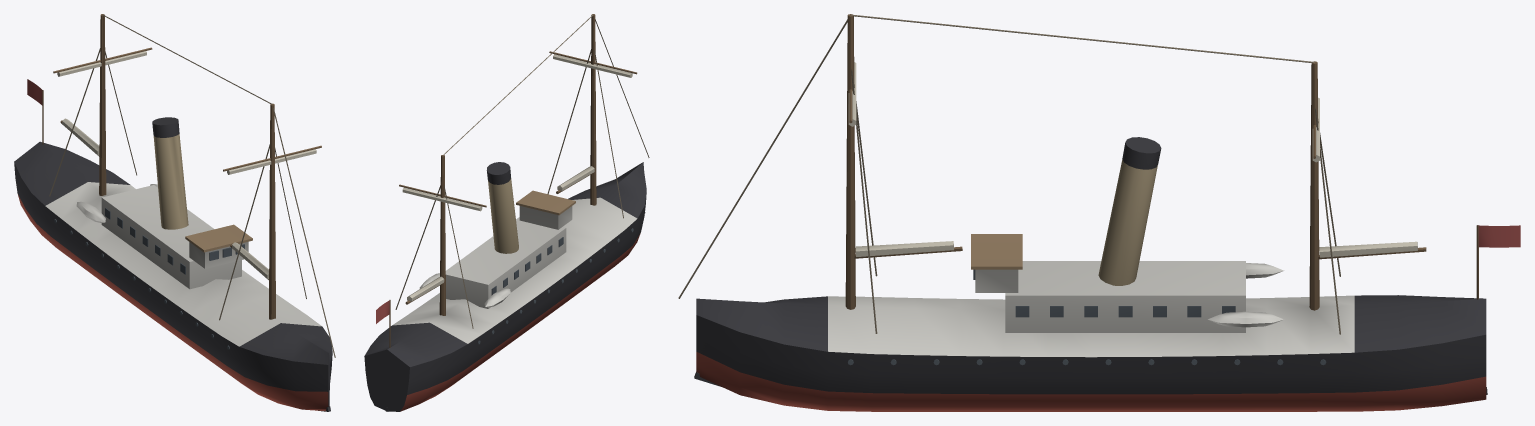
Rendered from steamer.glb.
The picture shows the model from 3 angles, left to right: view 1: azimuth 30°, elevation 25°; view 2: azimuth 150°, elevation 25°; view 3: azimuth 270°, elevation 25°; orthographic projection. The views are drawn at different scales.
Visible parts, largest first — view 1: Body; view 2: Body; view 3: Body.
Part boxes in pixels (bbox=[...]): Body: bbox=[14, 14, 335, 411]; Body: bbox=[364, 14, 649, 411]; Body: bbox=[678, 14, 1520, 411].
Size of the model in its own units: 0.9 by 2.47 by 4.9.
